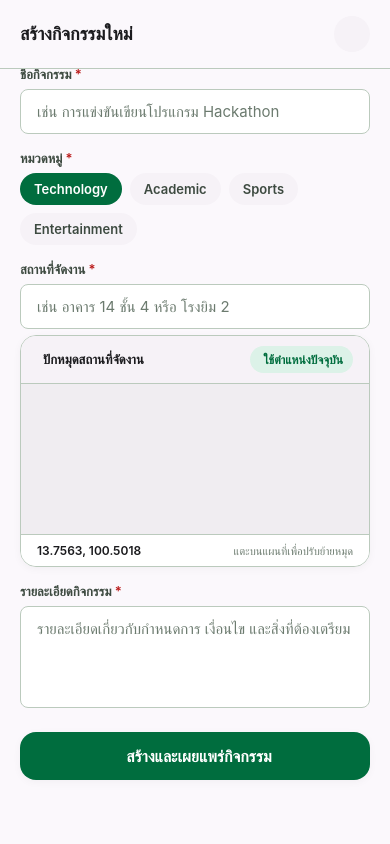
Integration Test: CreateEventModal › validates required fields on submit and displays inline errors
The image size is (390, 844).
(page scrolled)
# Press submit with empty form
Click the button with test id "create-event-submit-btn" at [195, 756], box x1=20 y1=732 x2=370 y2=780
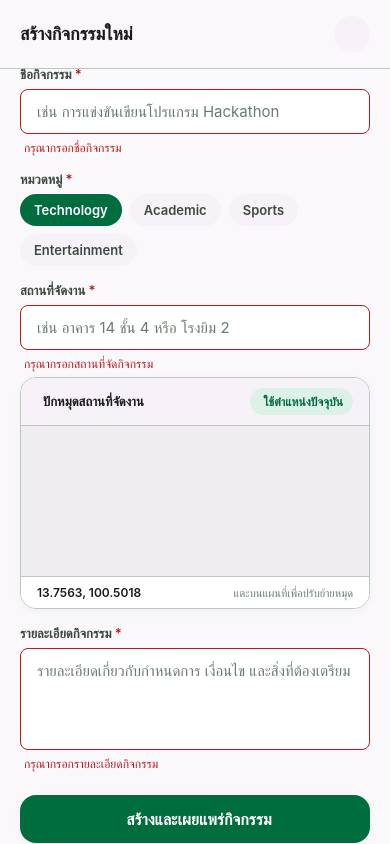
Now the text "กรุณากรอกชื่อกิจกรรม" is shown, box x1=24 y1=140 x2=122 y2=155
Now the text "กรุณากรอกสถานที่จัดกิจกรรม" is shown, box x1=24 y1=356 x2=153 y2=371
Now the text "กรุณากรอกรายละเอียดกิจกรรม" is shown, box x1=24 y1=756 x2=158 y2=771
